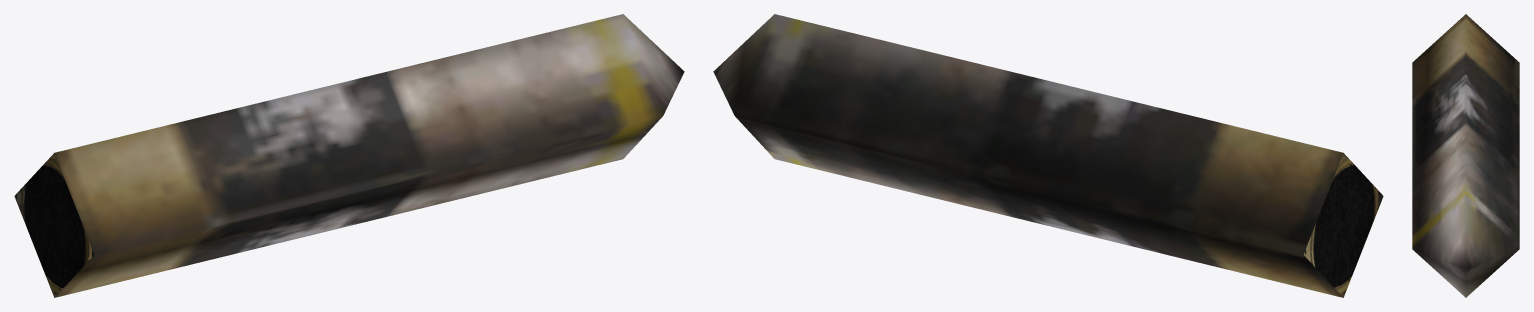
Rendered from t6_wpn_launch_smaw_missile_LOD1.obj.
The picture shows the model from 3 angles, left to right: view 1: azimuth 30°, elevation 25°; view 2: azimuth 150°, elevation 25°; view 3: azimuth 270°, elevation 25°; orthographic projection. The views are drawn at different scales.
Parts seen in each view (by area): view 1: mtl_t6_wpn_launch_smaw; view 2: mtl_t6_wpn_launch_smaw; view 3: mtl_t6_wpn_launch_smaw.
Boxes of the visible parts, box(x1,y1,x2,y2) form: mtl_t6_wpn_launch_smaw: box(14, 14, 684, 297); mtl_t6_wpn_launch_smaw: box(713, 14, 1383, 297); mtl_t6_wpn_launch_smaw: box(1412, 14, 1519, 297).
Size of the model in its own units: 32.53 by 7.16 by 7.16.
